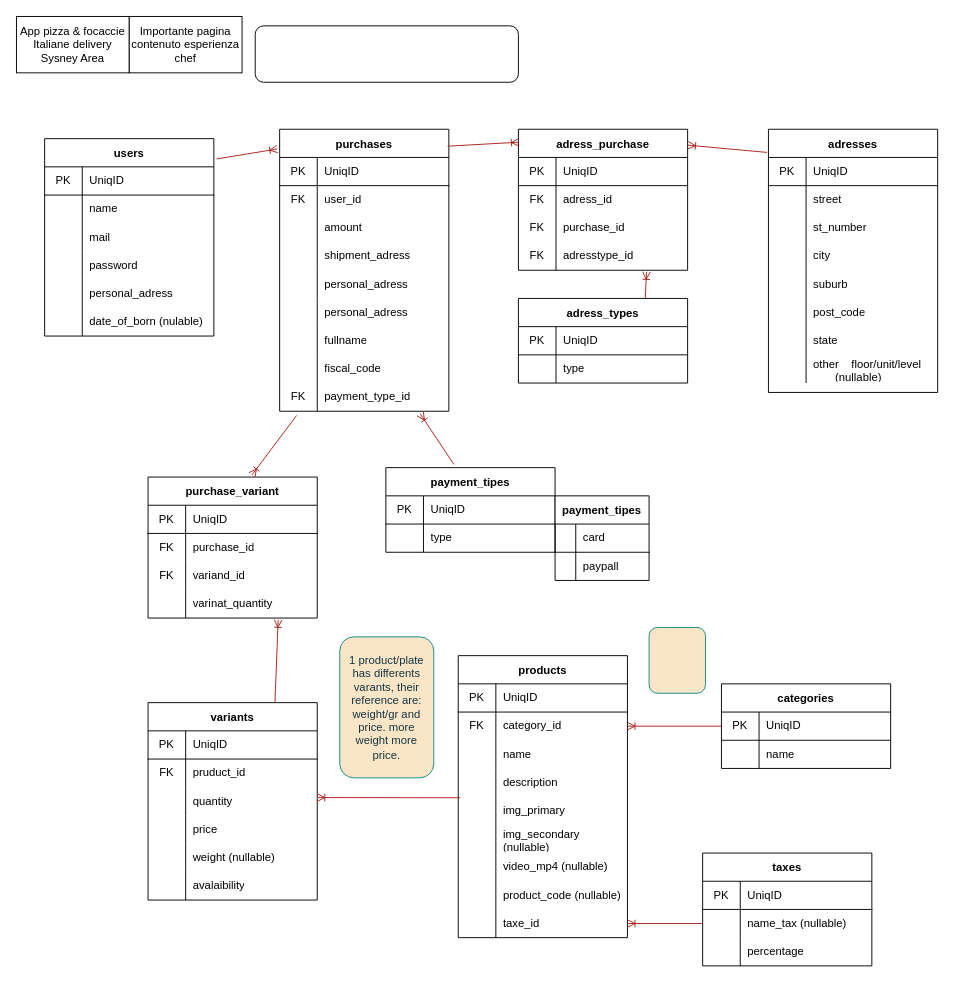
Some shapes in this 954 by 982 pixel diagram are drawn without their labels. Here are the shapes that lost their labels. From the top down, the centre of each, then its label:
[386,53]: NO HAWAIIAN PIZZA
[676,660]: 1 category could has 1 or more products
